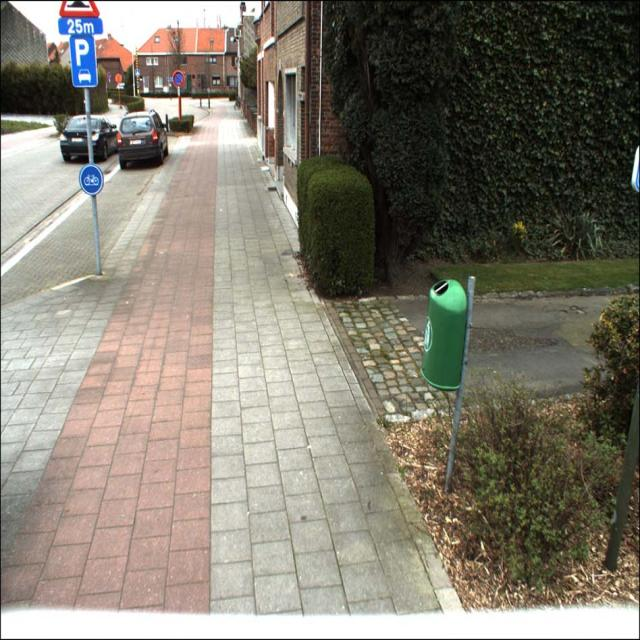park: (68, 35, 98, 88)
parkyasak: (172, 70, 184, 86)
